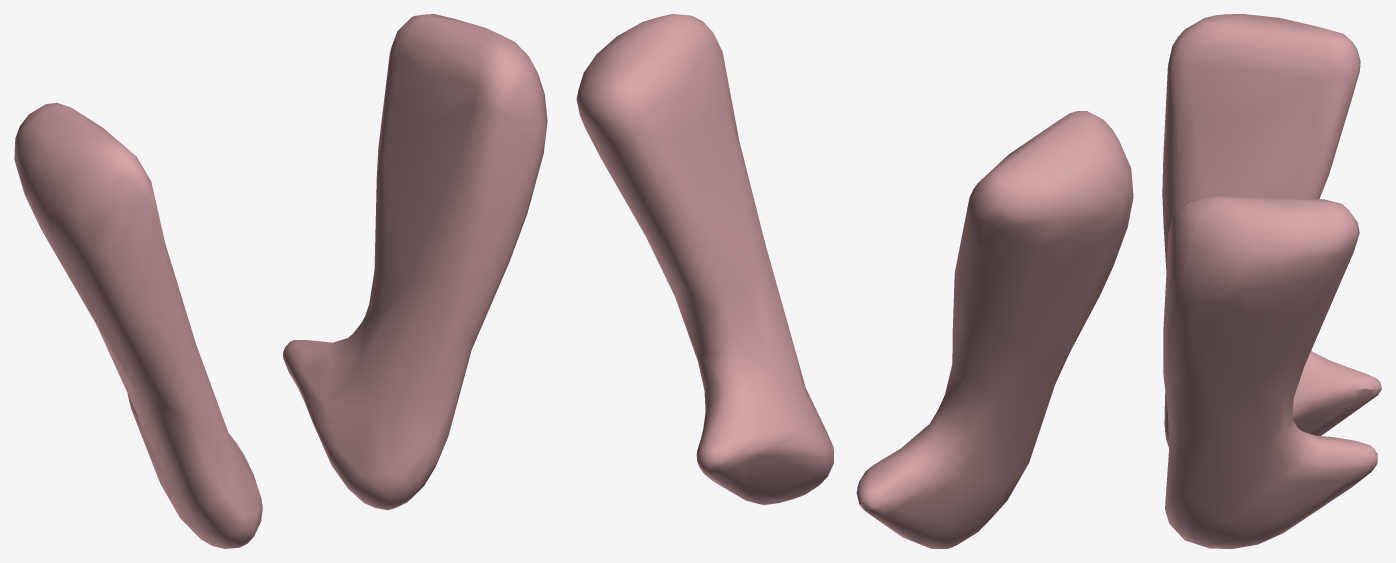
The model's file is fma75351_fj1752.glb.
The picture shows the model from 3 angles, left to right: view 1: azimuth 30°, elevation 25°; view 2: azimuth 150°, elevation 25°; view 3: azimuth 270°, elevation 25°; orthographic projection. The views are drawn at different scales.
Visible parts, largest first — view 1: FMA75351_FJ1752; view 2: FMA75351_FJ1752; view 3: FMA75351_FJ1752.
Boxes of the visible parts, x1,y1,x2,y2 form: FMA75351_FJ1752: (14, 14, 547, 548); FMA75351_FJ1752: (576, 14, 1133, 548); FMA75351_FJ1752: (1162, 14, 1381, 548).
Size of the model in its own units: 0.0127 by 0.0106 by 0.0052.
